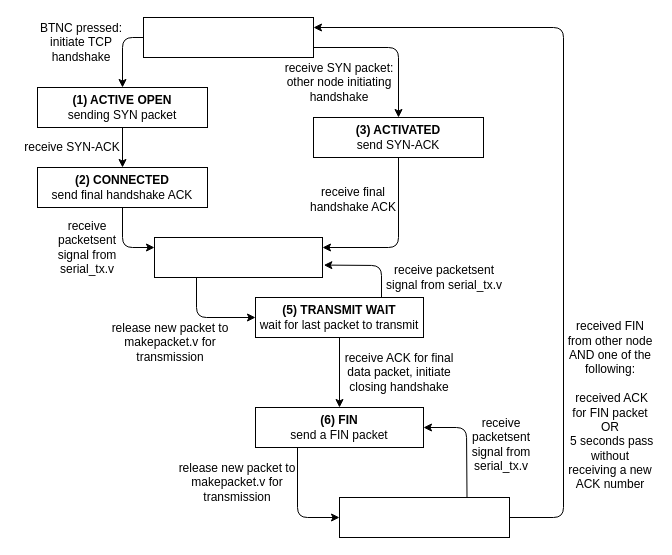
Image size: 672x555. Some labels were removed from this diagram. The box of each missing label's shape, as (x1, y1, x2, y2) in pixels:
(0) PASSIVE OPEN listening for handshake: (142, 16, 314, 58)
(4) TRANSMITTING sending next data packet: (154, 236, 322, 278)
(7) FIN WAIT wait for last packet to transmit: (338, 496, 510, 538)
